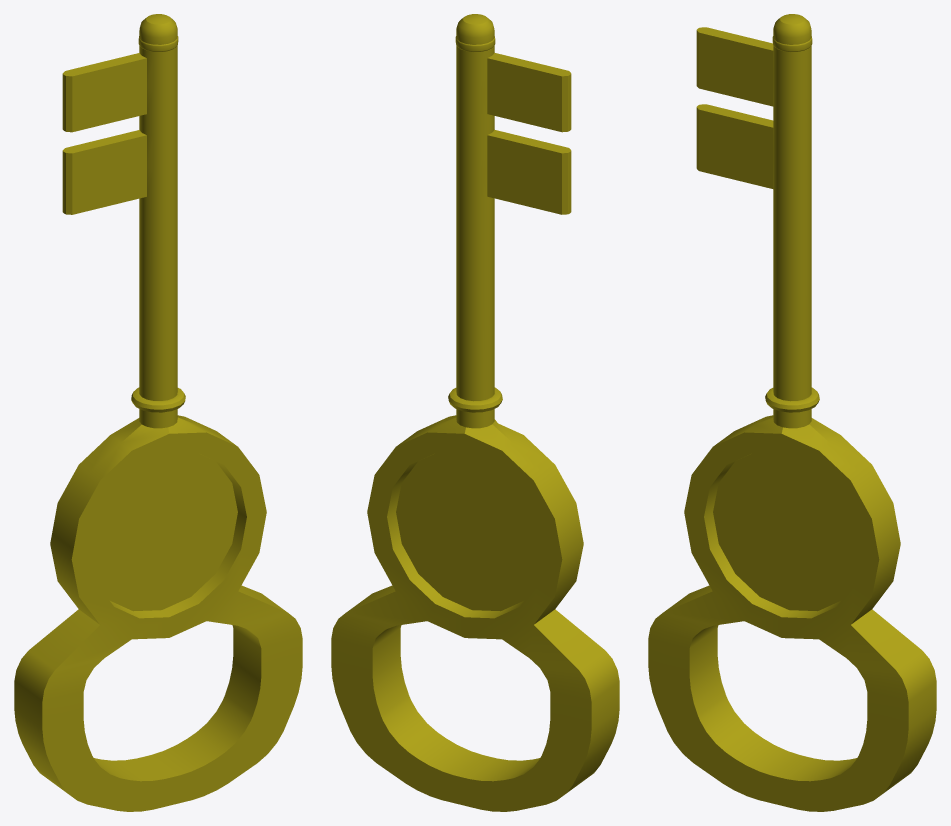
File: Key.fbx
The picture shows the model from 3 angles, left to right: view 1: azimuth 30°, elevation 25°; view 2: azimuth 150°, elevation 25°; view 3: azimuth 330°, elevation 25°; orthographic projection.
Visible parts, largest first — view 1: Circle; view 2: Circle; view 3: Circle.
Boxes of the visible parts, x1,y1,x2,y2 form: Circle: (14, 14, 302, 811); Circle: (331, 14, 619, 811); Circle: (648, 14, 936, 811).
Bounding box in the file's own units: 267 × 761 × 49.87.
